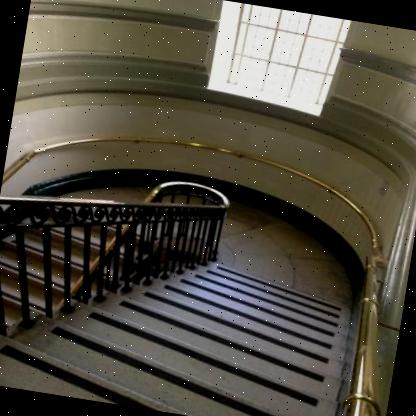stair: (11, 226, 357, 416)
